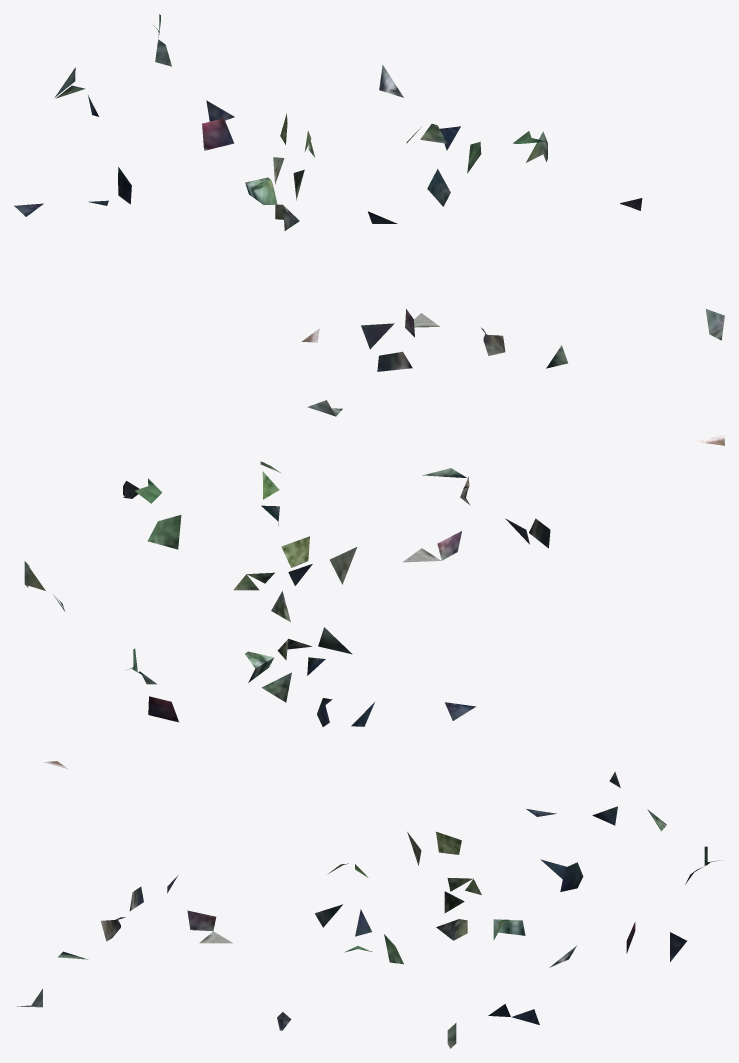
3 renders of one model, top to bottom at view 1: azimuth 30°, elevation 25°; view 2: azimuth 150°, elevation 25°; view 3: azimuth 270°, elevation 25°, orthographic. The views are drawn at different scales.
Parts seen in each view (by area): view 1: 30436272704361434511_1; view 2: 30436272704361434511_1; view 3: 30436272704361434511_1.
Boxes of the visible parts, bbox=[...] form: 30436272704361434511_1: bbox=[14, 14, 724, 371]; 30436272704361434511_1: bbox=[24, 400, 724, 726]; 30436272704361434511_1: bbox=[17, 761, 719, 1048].
Bounding box in the file's own units: 26.7 × 6.63 × 37.95.
1 material, 1 textured.
